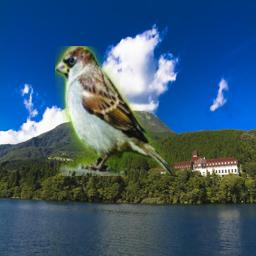Sparrow: (55, 46, 175, 176)
